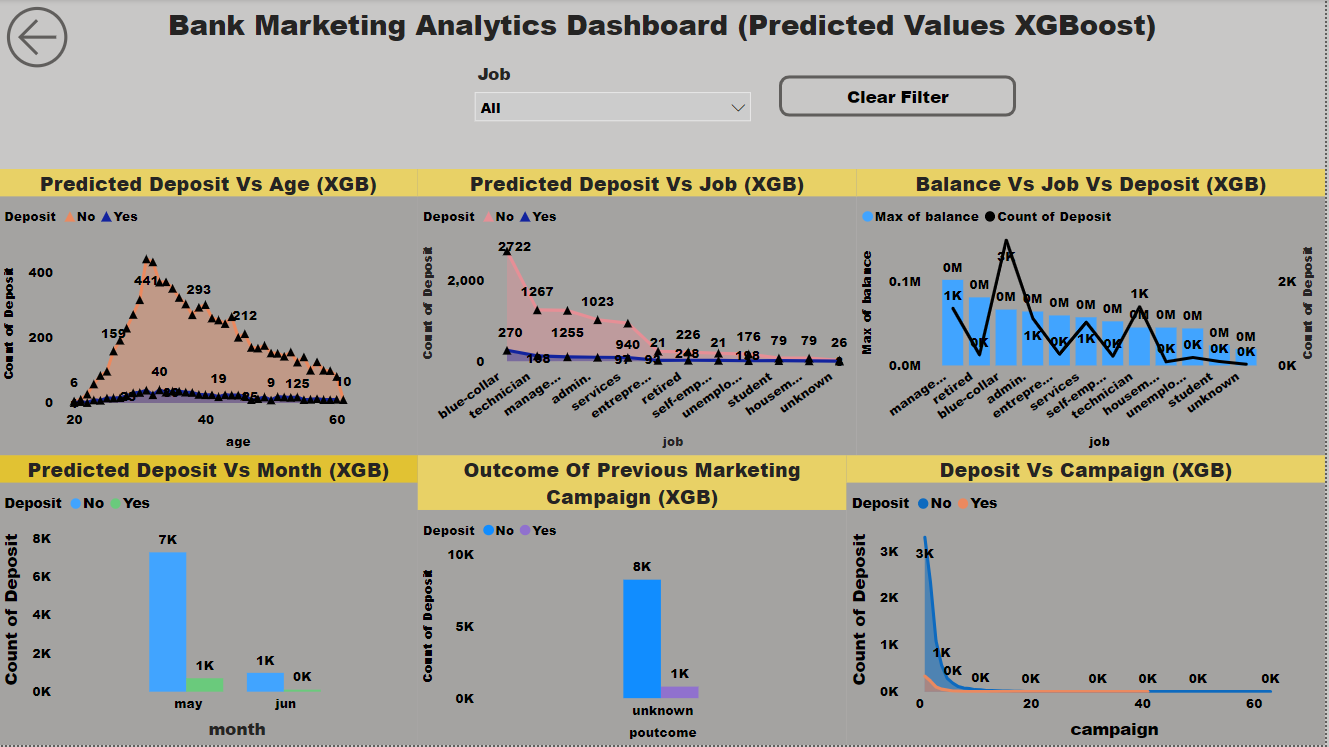

The page's visual inventory and layout, read from the dashboard file:
{"tool":"powerbi","page":{"name":"Predicted Values Dashboard XGB","canvas":[1280,720],"ordinal":4},"visuals":[{"type":"textbox","box":[0,0,1279.6,91.7],"z":0},{"type":"areaChart","title":"Predicted Deposit Vs Age (XGB)","fields":{"Category":["bank-full_New.age"],"Y":["CountNonNull(Submission_XGB.Deposit)"],"Series":["Submission_XGB.Deposit"]},"box":[0,164,404,276.2],"z":1000},{"type":"areaChart","title":"Predicted Deposit Vs Job (XGB)","fields":{"Category":["bank-full_New.job"],"Y":["CountNonNull(Submission_XGB.Deposit)"],"Series":["Submission_XGB.Deposit"]},"box":[404,164,423.3,276.2],"z":2000},{"type":"lineStackedColumnComboChart","title":"Balance Vs Job Vs Deposit (XGB)","fields":{"Category":["bank-full_New.job"],"Y":["Max(bank-full_New.balance)"],"Y2":["CountNonNull(Submission_XGB.Deposit)"]},"box":[827.3,164,452.3,276.2],"z":3000},{"type":"clusteredColumnChart","title":"Predicted Deposit Vs Month (XGB)","fields":{"Category":["bank-full_New.month"],"Y":["CountNonNull(Submission_XGB.Deposit)"],"Series":["Submission_XGB.Deposit"]},"box":[0,440.2,404,279.8],"z":4000},{"type":"clusteredColumnChart","title":"Outcome Of Previous Marketing Campaign (XGB)","fields":{"Category":["bank-full_New.poutcome"],"Y":["CountNonNull(Submission_XGB.Deposit)"],"Series":["Submission_XGB.Deposit"]},"box":[404,440.2,413.7,281],"z":5000},{"type":"areaChart","title":"Deposit Vs Campaign (XGB)","fields":{"Category":["bank-full_New.campaign"],"Y":["CountNonNull(Submission_XGB.Deposit)"],"Series":["Submission_XGB.Deposit"]},"box":[817.7,440.2,461.9,279.8],"z":6000},{"type":"actionButton","box":[0,0,100.1,73.6],"z":7000},{"type":"slicer","fields":{"Values":["bank-full_New.job"]},"box":[448.6,55.5,287,85.6],"z":8000},{"type":"actionButton","box":[752.6,73.6,229.1,39.8],"z":9000}]}

Visuals, with their boxes in screenshot pixels (x1, y1, x2, y2), scaled from the page's 1280x720 canvas onto the 1329x747 screenshot:
textbox: <bbox>0, 0, 1328, 95</bbox>
"Predicted Deposit Vs Age (XGB)" areaChart: <bbox>0, 170, 419, 457</bbox>
"Predicted Deposit Vs Job (XGB)" areaChart: <bbox>419, 170, 859, 457</bbox>
"Balance Vs Job Vs Deposit (XGB)" lineStackedColumnComboChart: <bbox>859, 170, 1328, 457</bbox>
"Predicted Deposit Vs Month (XGB)" clusteredColumnChart: <bbox>0, 457, 419, 746</bbox>
"Outcome Of Previous Marketing Campaign (XGB)" clusteredColumnChart: <bbox>419, 457, 849, 746</bbox>
"Deposit Vs Campaign (XGB)" areaChart: <bbox>849, 457, 1328, 746</bbox>
actionButton: <bbox>0, 0, 104, 76</bbox>
slicer - bank-full_New.job: <bbox>466, 58, 764, 146</bbox>
actionButton: <bbox>781, 76, 1019, 118</bbox>
